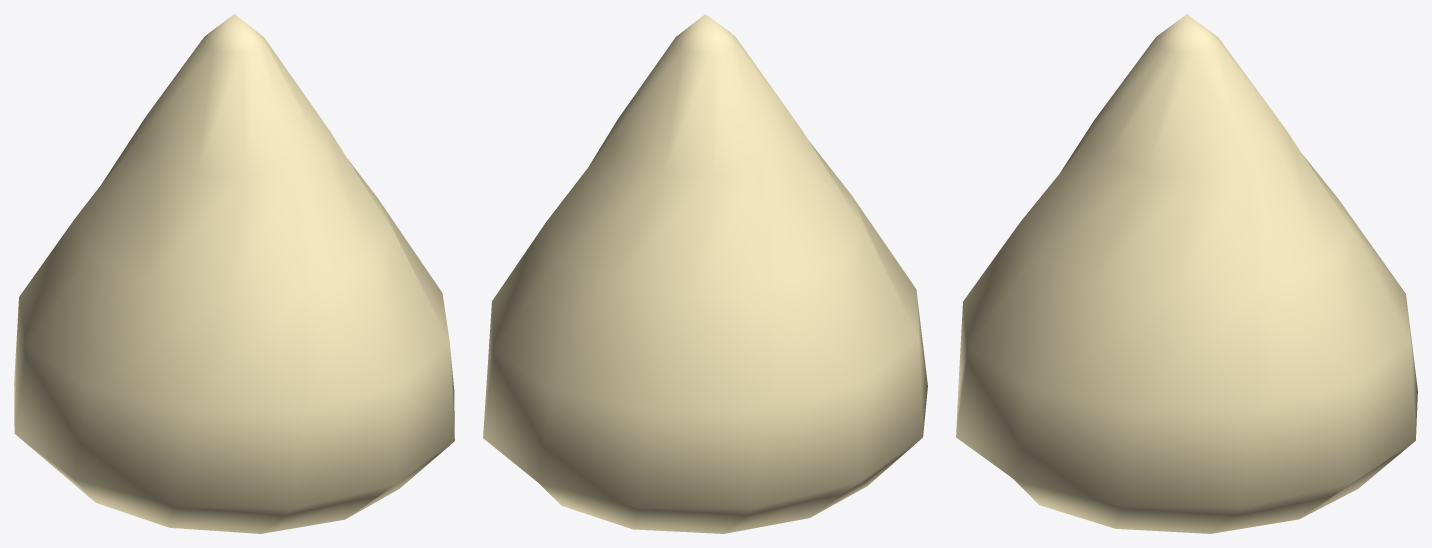
The model's file is candy_assets3.fbx.
3 renders of one model, left to right at view 1: azimuth 30°, elevation 25°; view 2: azimuth 150°, elevation 25°; view 3: azimuth 270°, elevation 25°, orthographic.
Visible parts, largest first — view 1: candy_assets3; view 2: candy_assets3; view 3: candy_assets3.
Part boxes in pixels (<box>): candy_assets3: <box>14,14,454,533</box>; candy_assets3: <box>483,14,927,533</box>; candy_assets3: <box>956,14,1417,533</box>.
Bounding box in the file's own units: 292 × 330 × 308.
Materials: 1 (1 with a texture image).
